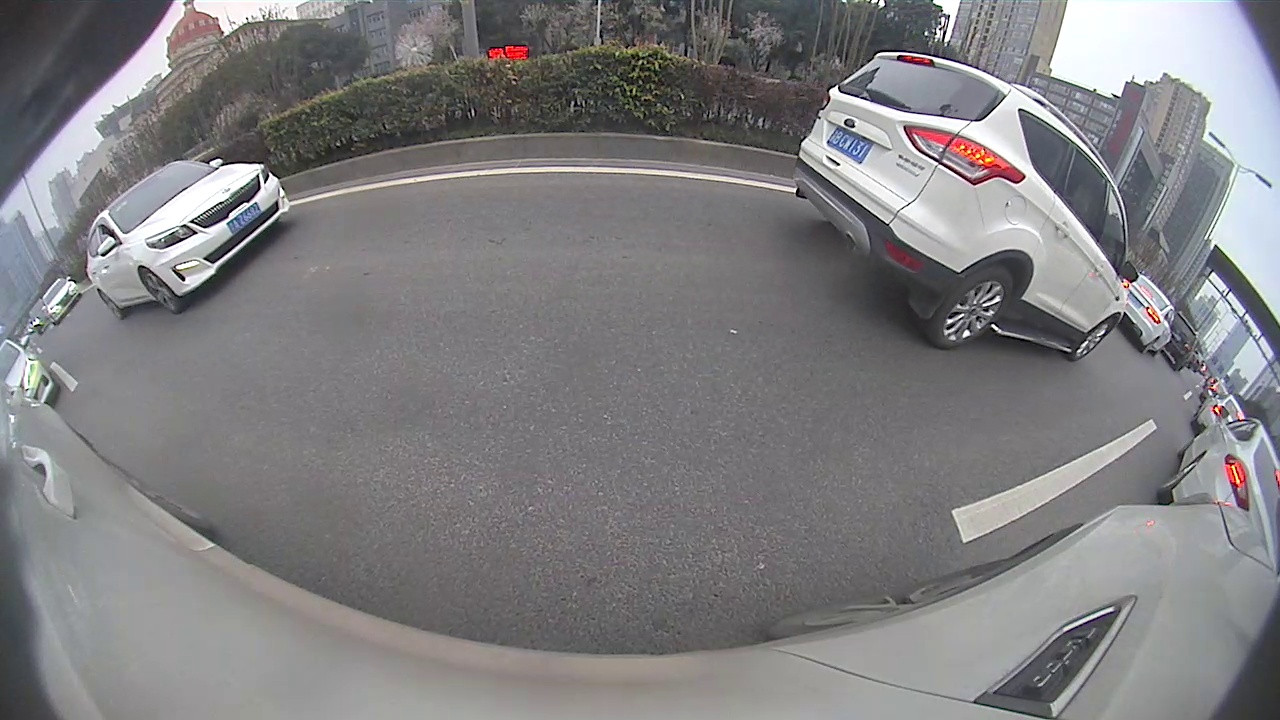car: (791, 51, 1143, 362), (84, 154, 294, 319), (1156, 406, 1278, 549), (1121, 268, 1177, 358), (0, 336, 59, 408)
front: (140, 268, 180, 315), (1072, 318, 1114, 362)
rear: (928, 262, 1015, 347), (97, 291, 123, 321)
